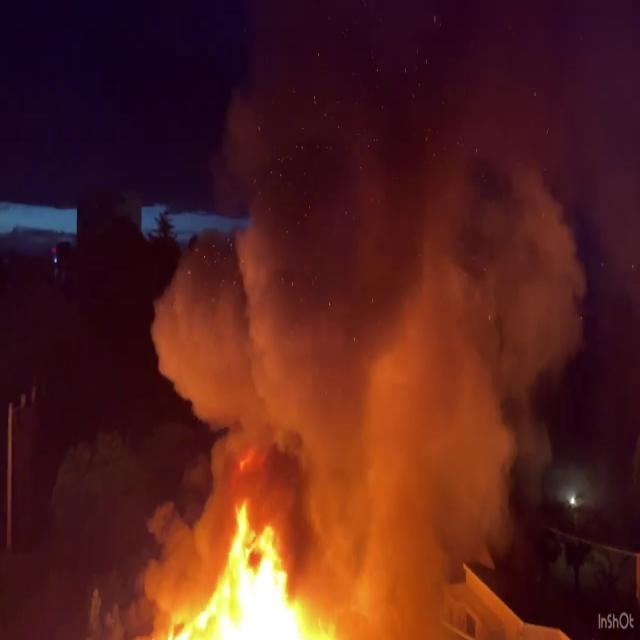Fire: (166, 502, 333, 640)
Smoke: (177, 29, 606, 566)
